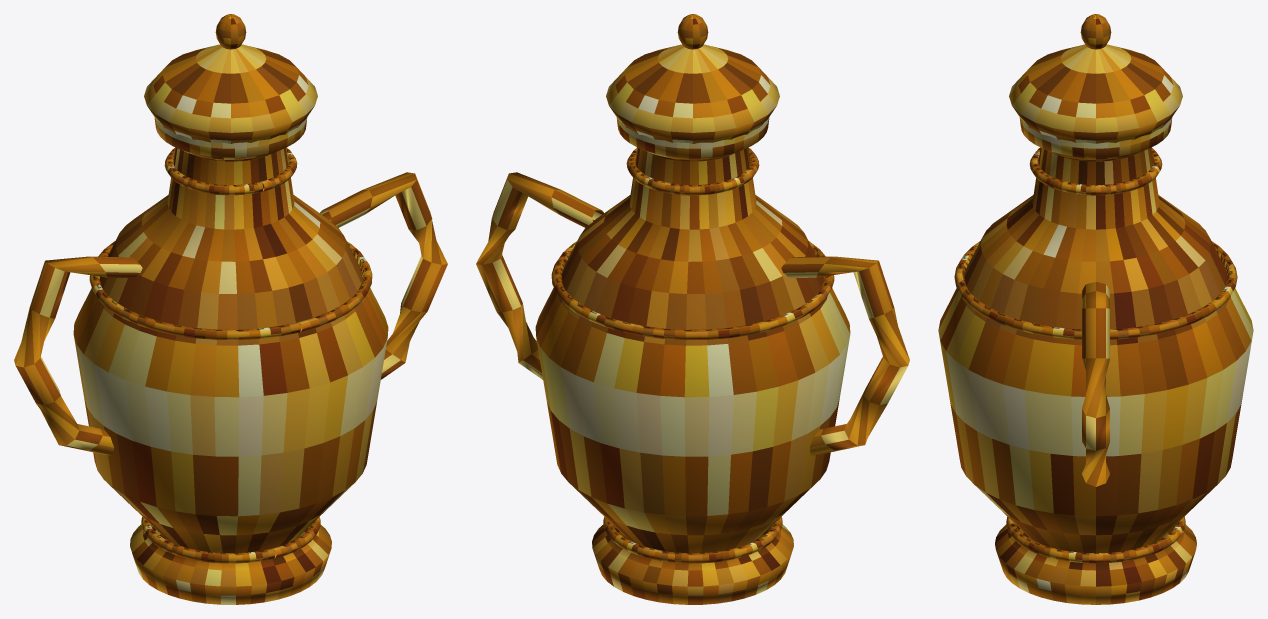
The model's file is gold-urn.glb.
3 renders of one model, left to right at view 1: azimuth 30°, elevation 25°; view 2: azimuth 150°, elevation 25°; view 3: azimuth 270°, elevation 25°, orthographic.
Visible parts, largest first — view 1: gold-urn; view 2: gold-urn; view 3: gold-urn.
Part boxes in pixels (box(x1,y1,x2,y2)): gold-urn: box(14, 14, 447, 604); gold-urn: box(476, 14, 909, 604); gold-urn: box(938, 14, 1253, 604).
Bounding box in the file's own units: 0.5035 × 0.6143 × 0.319.
